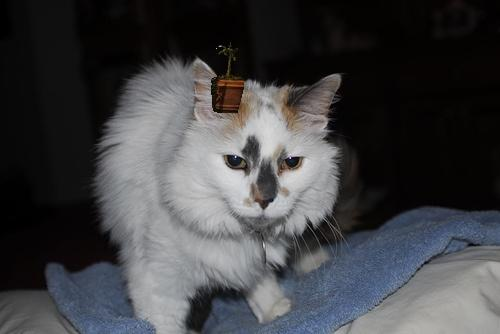tampered: (212, 43, 244, 113)
